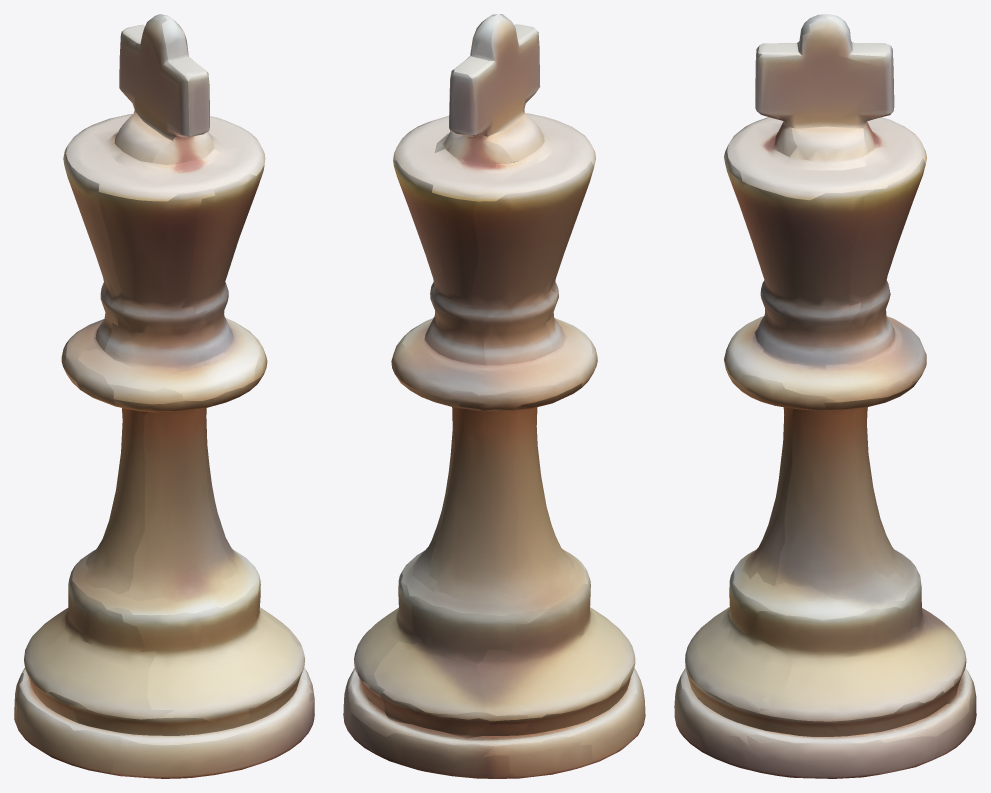
The model's file is king.glb.
The picture shows the model from 3 angles, left to right: view 1: azimuth 30°, elevation 25°; view 2: azimuth 150°, elevation 25°; view 3: azimuth 270°, elevation 25°; orthographic projection.
Parts seen in each view (by area): view 1: geometry_0.001; view 2: geometry_0.001; view 3: geometry_0.001.
Boxes of the visible parts, x1,y1,x2,y2 form: geometry_0.001: [14, 14, 314, 778]; geometry_0.001: [343, 14, 645, 778]; geometry_0.001: [674, 14, 976, 778].
Size of the model in its own units: 0.3901 by 1 by 0.3899.
1 material, 1 textured.
